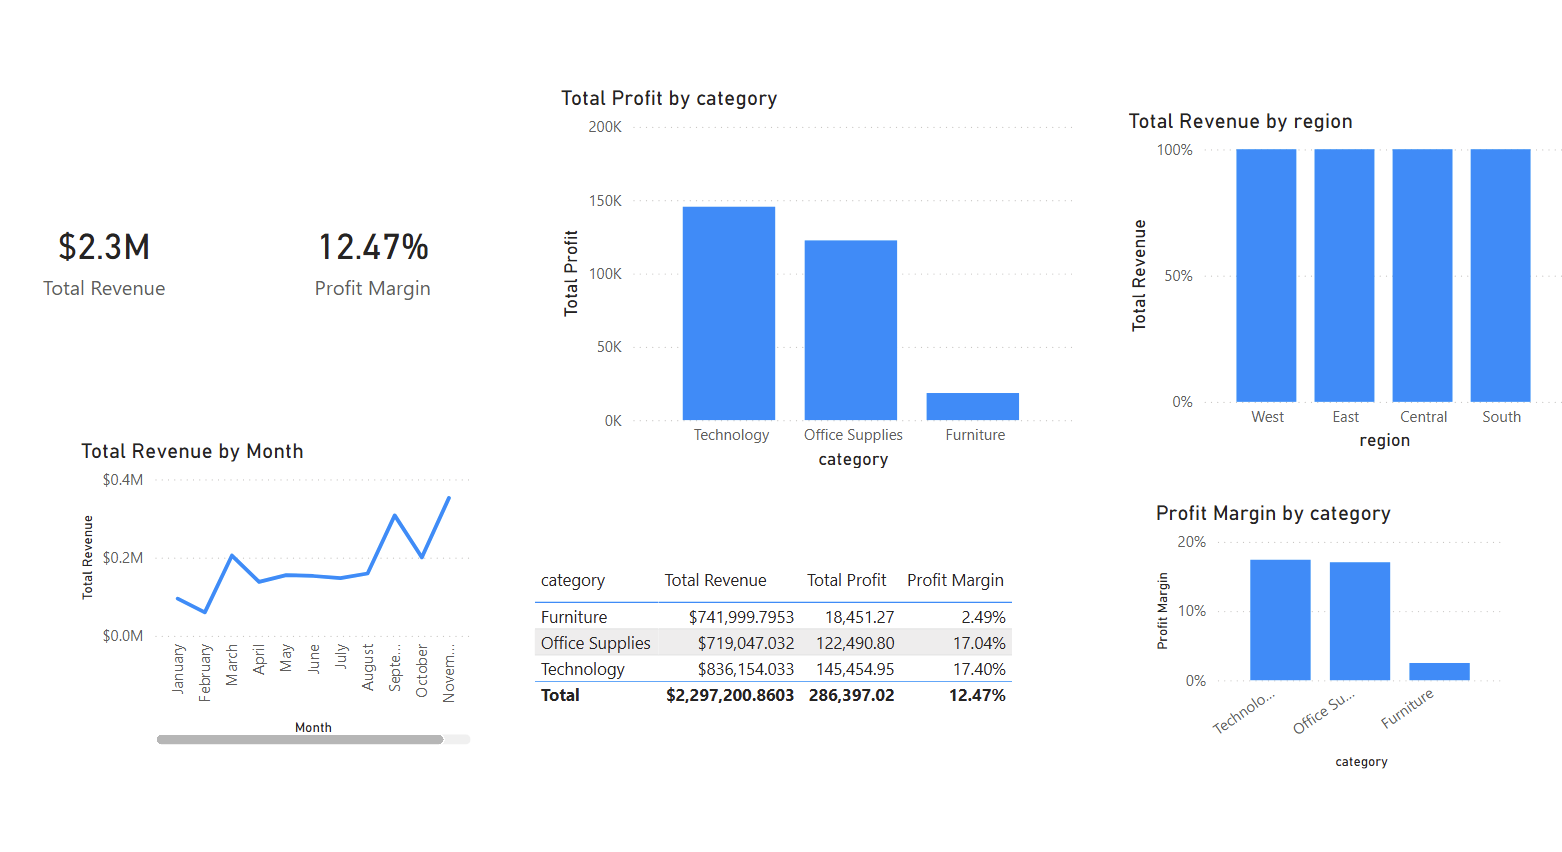

This screenshot's page, from the dashboard's own definition file:
{"tool":"powerbi","page":{"name":"EXECUTIVE OVERVIEW","canvas":[1280,720],"ordinal":0},"visuals":[{"type":"card","fields":{"Values":["processed_sales.Total Revenue"]},"box":[0,139.1,187,150],"z":0},{"type":"card","fields":{"Values":["processed_sales.Profit Margin"]},"box":[204.3,139.1,208.7,150],"z":1000},{"type":"lineChart","fields":{"Category":["processed_sales.order_date.Variation.Date Hierarchy.Month"],"Y":["processed_sales.Total Revenue"]},"box":[69.6,360.9,321.7,250],"z":2000},{"type":"columnChart","fields":{"Category":["processed_sales.category"],"Y":["processed_sales.Total Profit"]},"box":[454.3,78.3,419.6,310.9],"z":3000},{"type":"hundredPercentStackedColumnChart","fields":{"Category":["processed_sales.region"],"Y":["processed_sales.Total Revenue"]},"box":[908.7,95.7,358.7,278.3],"z":4000},{"type":"columnChart","fields":{"Category":["processed_sales.category"],"Y":["processed_sales.Profit Margin"]},"box":[930.4,410.9,289.1,219.6],"z":5000},{"type":"tableEx","fields":{"Values":["processed_sales.category","processed_sales.Total Revenue","processed_sales.Total Profit","processed_sales.Profit Margin"]},"box":[432.6,458.7,413,123.9],"z":6000}]}

Visuals, with their boxes on the page's 1280x720 design canvas (x1, y1, x2, y2). These are canvas units, not pixel positions in the 1562x852 screenshot, which may show the page scaled, cropped or inside an application window:
card - processed_sales.Total Revenue: region(0, 139, 187, 289)
card - processed_sales.Profit Margin: region(204, 139, 413, 289)
lineChart - processed_sales.order_date.Variation.Date Hierarchy.Month x processed_sales.Total Revenue: region(70, 361, 391, 611)
columnChart - processed_sales.category x processed_sales.Total Profit: region(454, 78, 874, 389)
hundredPercentStackedColumnChart - processed_sales.region x processed_sales.Total Revenue: region(909, 96, 1267, 374)
columnChart - processed_sales.category x processed_sales.Profit Margin: region(930, 411, 1220, 630)
tableEx - processed_sales.category x processed_sales.Total Revenue: region(433, 459, 846, 583)
